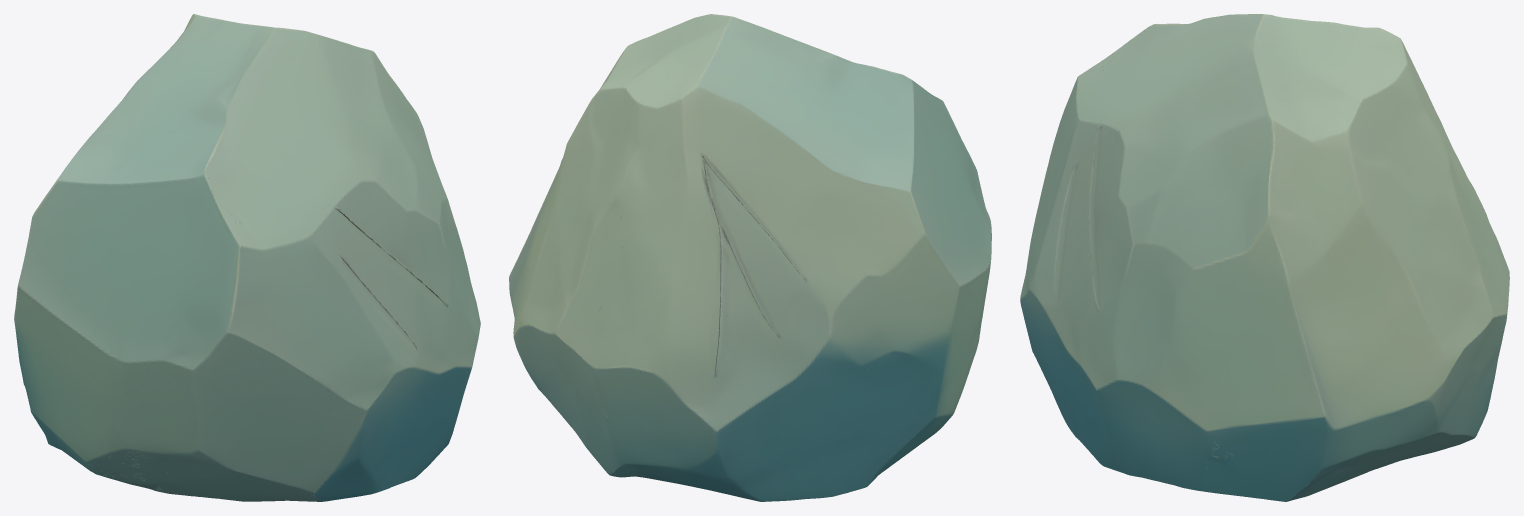
Rendered from base_basic_shaded.fbx.
The picture shows the model from 3 angles, left to right: view 1: azimuth 30°, elevation 25°; view 2: azimuth 150°, elevation 25°; view 3: azimuth 270°, elevation 25°; orthographic projection. The views are drawn at different scales.
Parts seen in each view (by area): view 1: geometry_0; view 2: geometry_0; view 3: geometry_0.
Part boxes in pixels (x1,y1,x2,y2): geometry_0: [14, 14, 480, 501]; geometry_0: [509, 14, 991, 501]; geometry_0: [1020, 14, 1509, 501].
Bounding box in the file's own units: 190 × 168 × 176.
